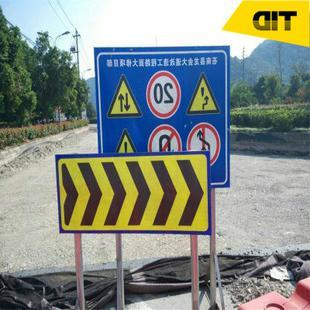sign: (94, 50, 230, 188), (51, 151, 228, 236)
